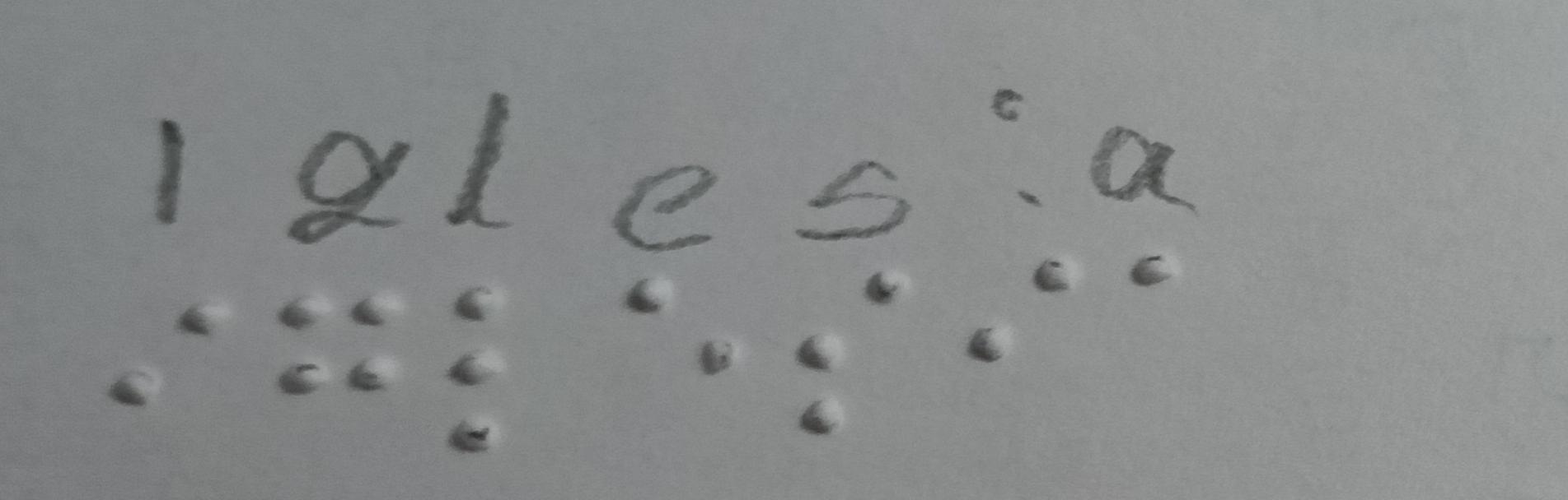a: (1090, 234, 1213, 317)
e: (583, 263, 758, 397)
g: (268, 263, 424, 428)
i: (107, 253, 243, 432), (948, 249, 1092, 389)
l: (441, 261, 521, 469)
s: (789, 261, 921, 440)
